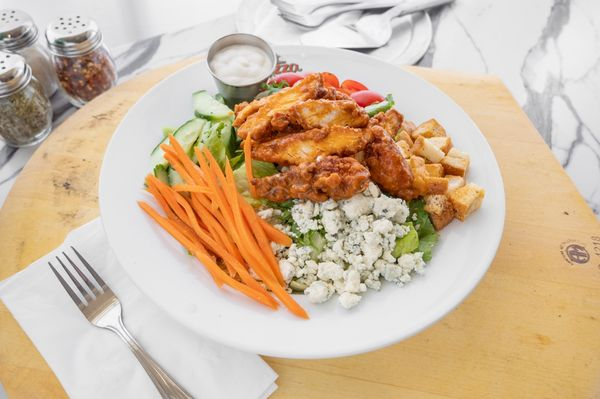burger: (47, 244, 194, 398)
pizza: (206, 32, 278, 107)
